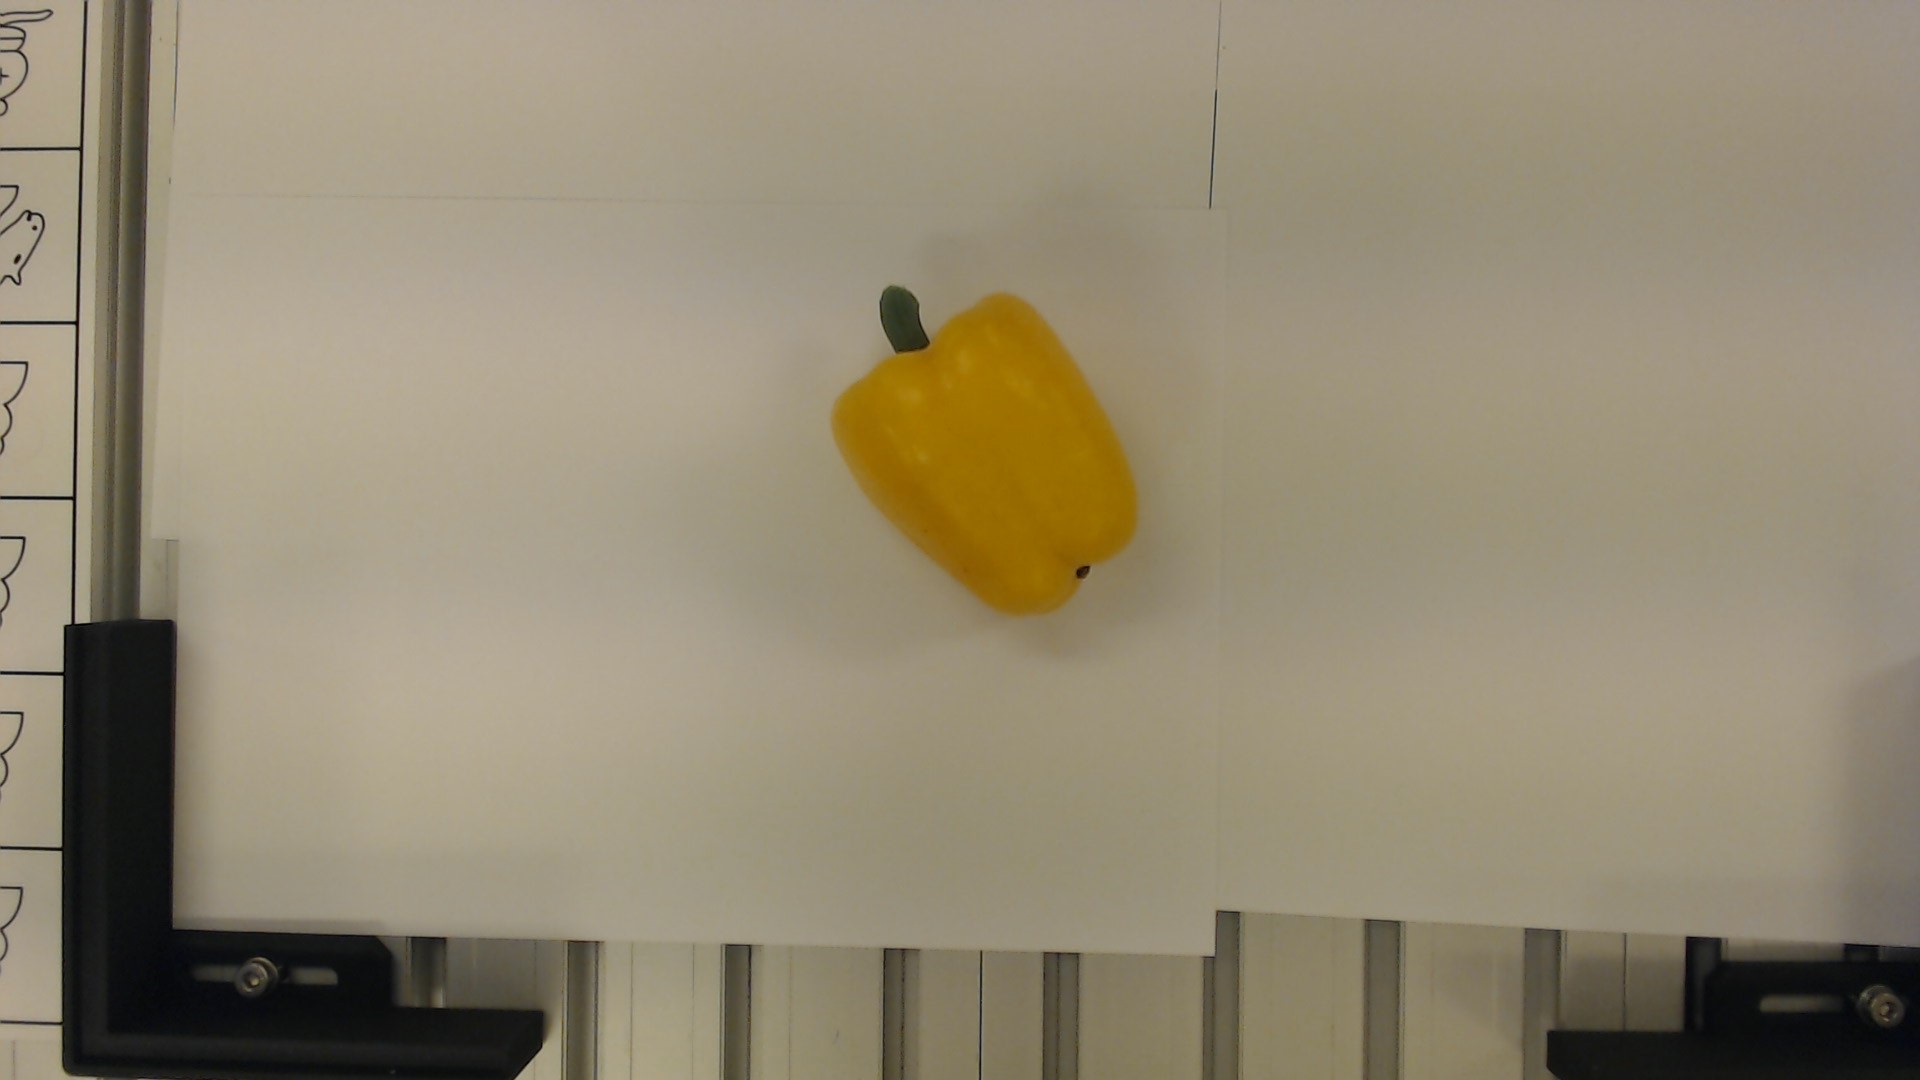Yellow Bell Pepper: (820, 282, 1138, 615)
